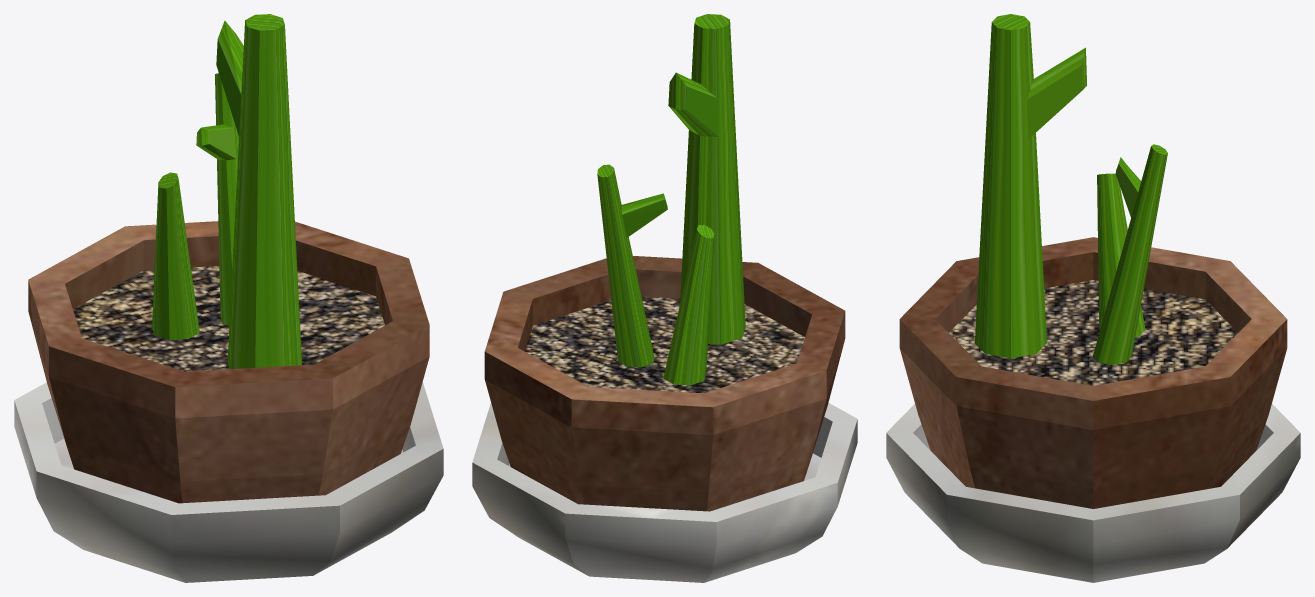
Rendered from flower3.FBX.
3 views of the same model, side by side, from view 1: azimuth 30°, elevation 25°; view 2: azimuth 150°, elevation 25°; view 3: azimuth 270°, elevation 25° (orthographic). The views are drawn at different scales.
Parts seen in each view (by area): view 1: Object003, Cylinder001, Object001, Object002; view 2: Object003, Cylinder001, Object001, Object002; view 3: Object003, Object001, Cylinder001, Object002.
Part boxes in pixels (<box>): Object003: <box>28,221,429,503</box>; Cylinder001: <box>14,382,443,582</box>; Object001: <box>152,14,301,369</box>; Object002: <box>73,266,384,371</box>; Object003: <box>484,256,845,511</box>; Cylinder001: <box>472,403,857,582</box>; Object001: <box>597,14,745,385</box>; Object002: <box>525,296,804,393</box>; Object003: <box>899,237,1287,508</box>; Object001: <box>974,14,1167,364</box>; Cylinder001: <box>886,404,1300,582</box>; Object002: <box>949,280,1237,385</box>.
Bounding box in the file's own units: 68.95 × 90.09 × 68.95.
Materials: 4 (4 with a texture image).
